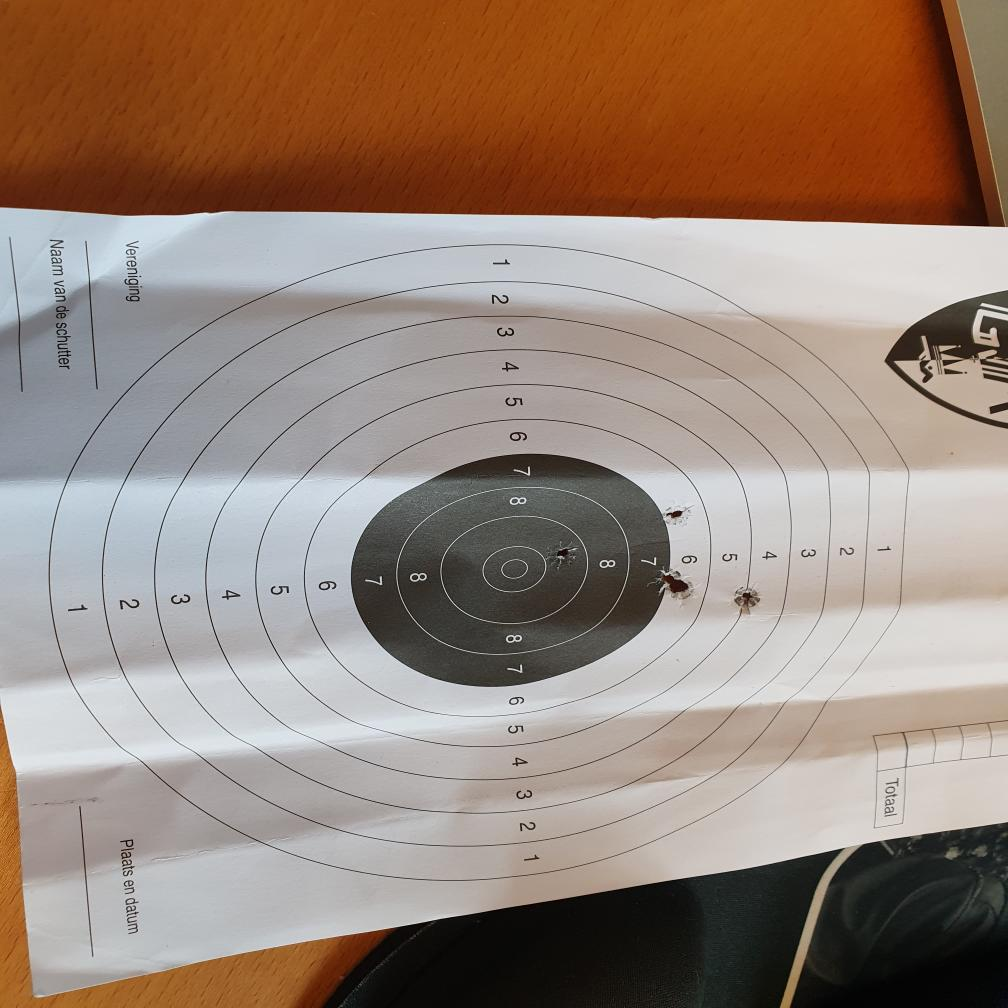5: (724, 586, 769, 612)
6: (666, 579, 697, 604)
7: (659, 499, 695, 532), (649, 562, 679, 587)
9: (547, 543, 583, 570)
Target: (44, 245, 906, 878)
black_contour: (351, 453, 672, 687)
